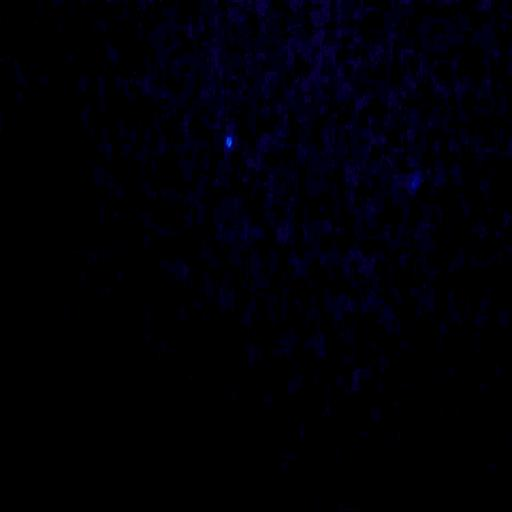object-detection-project: (247, 159, 256, 173)
